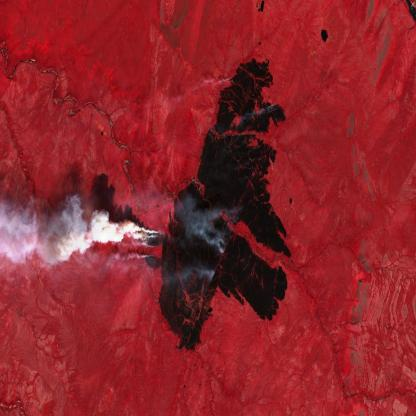fire: (138, 219, 170, 280), (254, 99, 284, 124)
